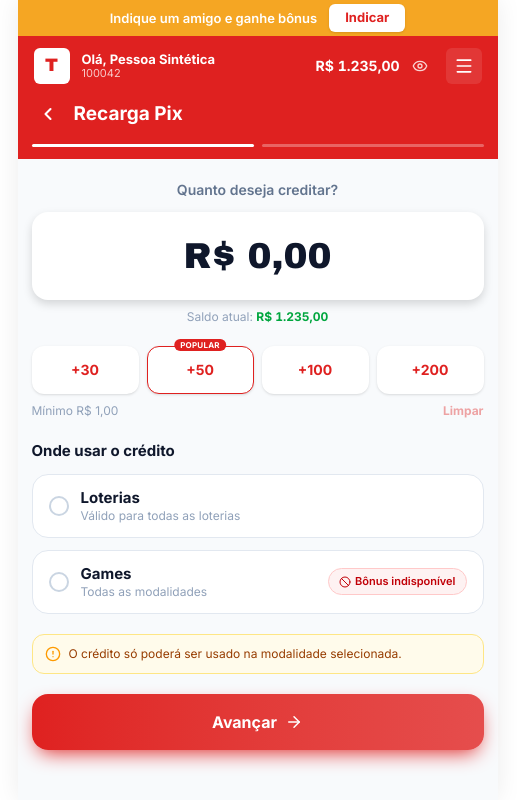
RechargePage: gerar a cobrança › Pix indisponível: mostra a mensagem e continua na etapa 1
The width and height of the screenshot is (517, 800).
Click the button with aria-label "Adicionar R$ 50,00" at {"x": 200, "y": 370}, box [146, 346, 254, 394]
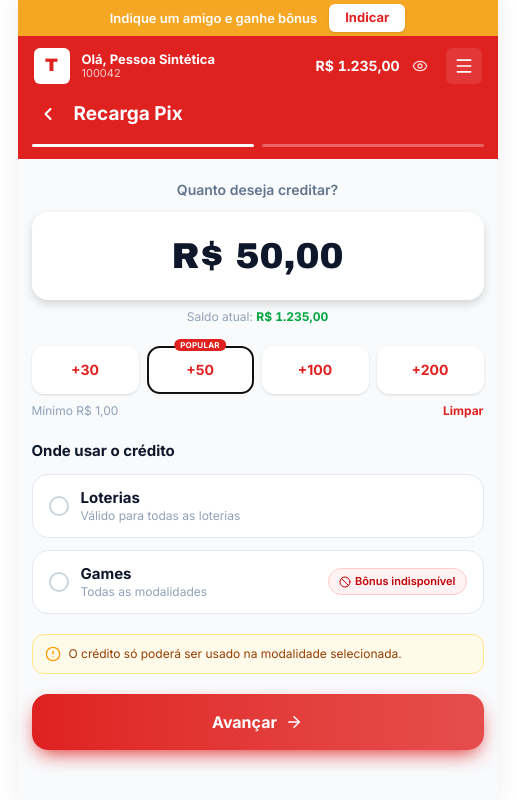
Click the radio button labelled "Loterias Válido para todas as loterias" at {"x": 110, "y": 498}, box [32, 474, 484, 538]
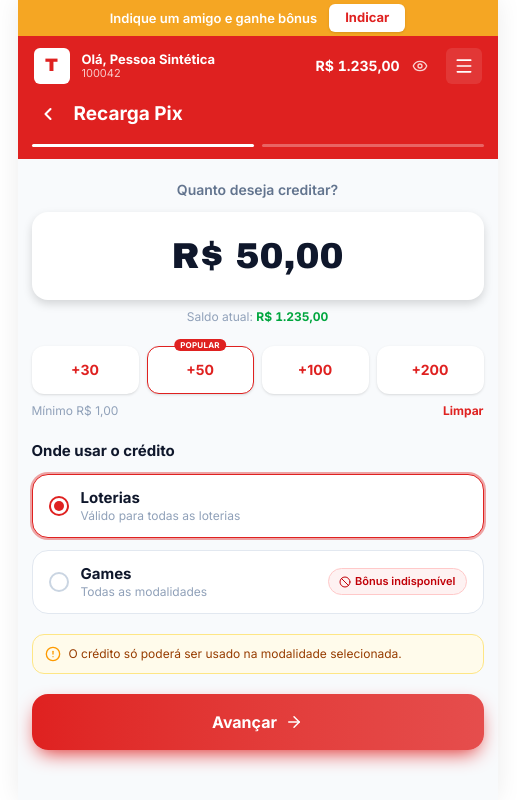
Click the button "Avançar" at {"x": 258, "y": 722}, box [32, 694, 484, 750]
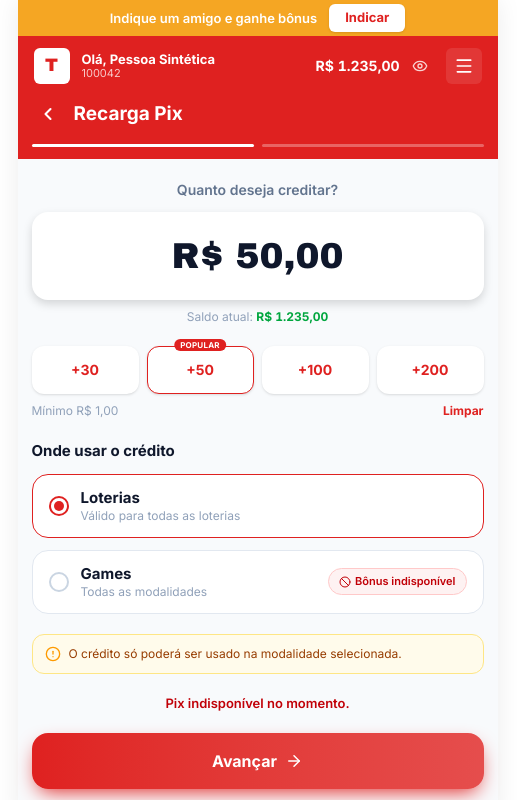
Expected: the heading "Recarga Pix" is shown, [74, 102, 183, 125]
Expected: the message reads "Pix indisponível no momento.", [165, 694, 350, 710]
